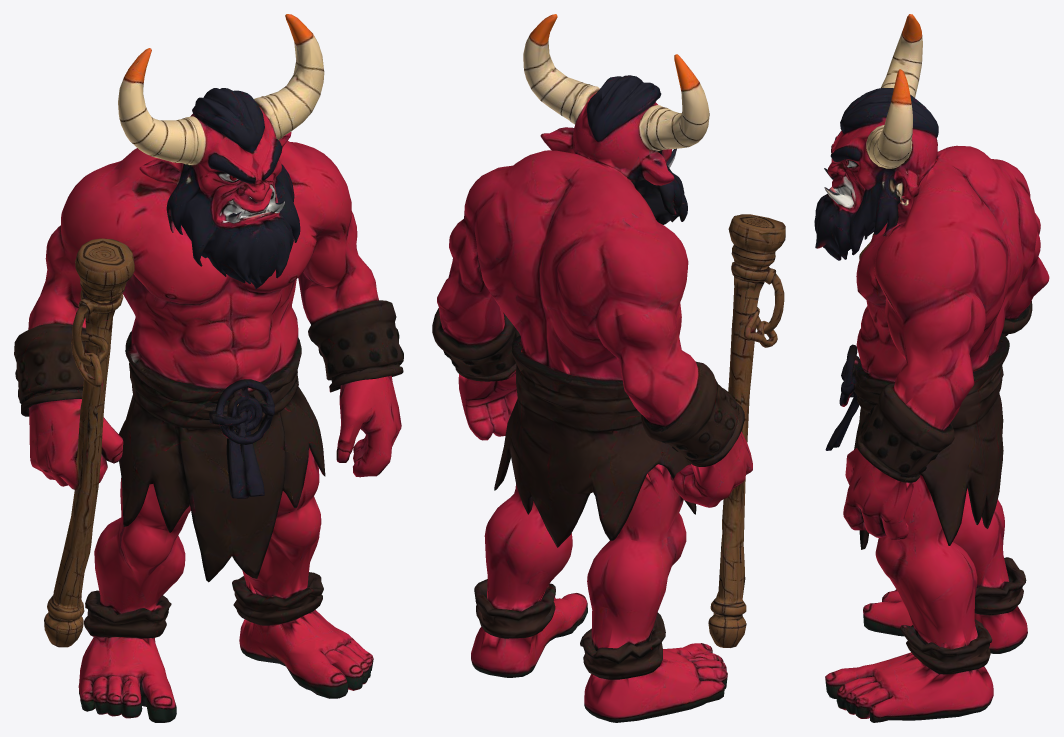
Rendered from ogre.glb.
The picture shows the model from 3 angles, left to right: view 1: azimuth 30°, elevation 25°; view 2: azimuth 150°, elevation 25°; view 3: azimuth 270°, elevation 25°; orthographic projection. The views are drawn at different scales.
Size of the model in its own units: 1.01 by 1.9 by 0.6454.
1 material, 1 textured.
